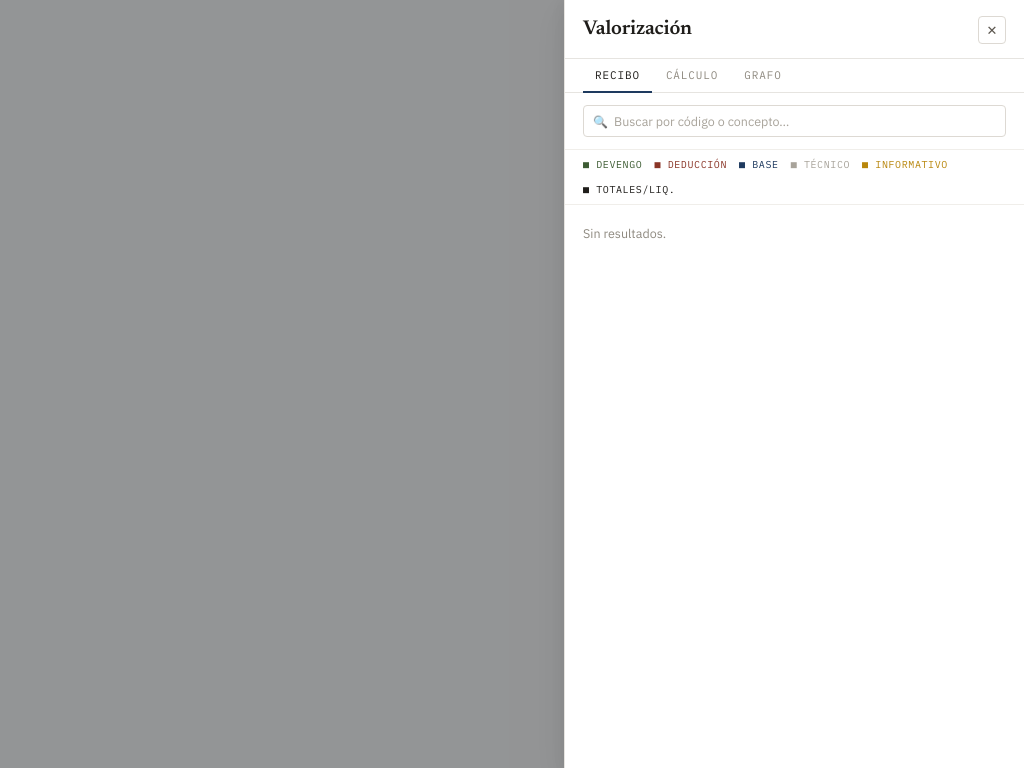
Test: La pestaña «Cálculo» de la Valorización › mientras los pasos vienen de camino no se dice que el recibo no los tenga
What coordinates should you click on to do the following:
click the tab with class "tab" showing "Cálculo"
I would click on:
 (692, 76)
Its box is [654,59,730,93].
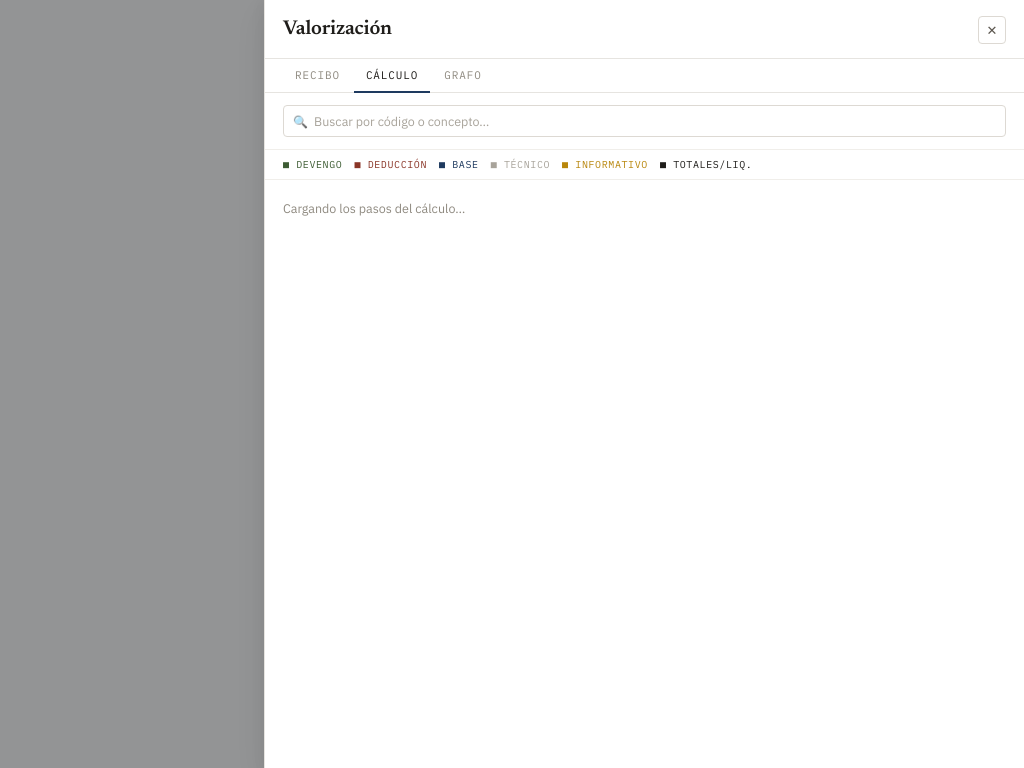
Result: the text "Cargando los pasos del cálculo" is shown at [283,200,465,216]
